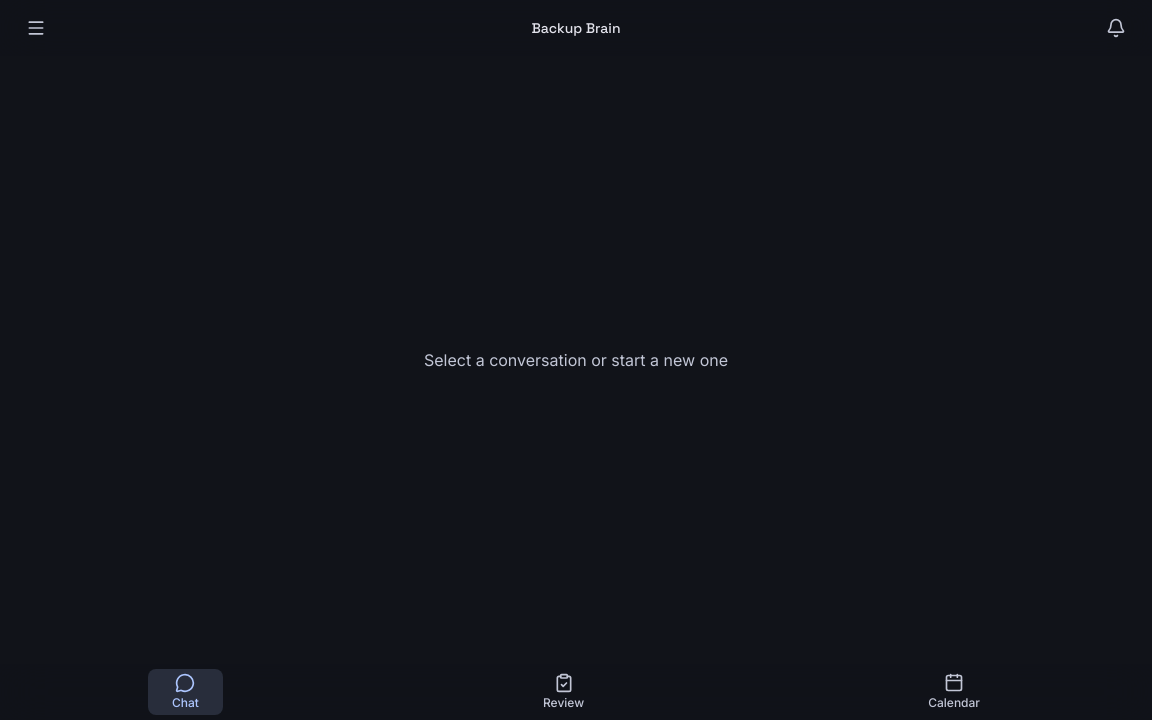
Test: Chat sessions — drawer › switches to a session when clicking on it and closes drawer
Open drawer
Click the button with test id "menu-button" at (36, 28), box [16, 8, 56, 48]
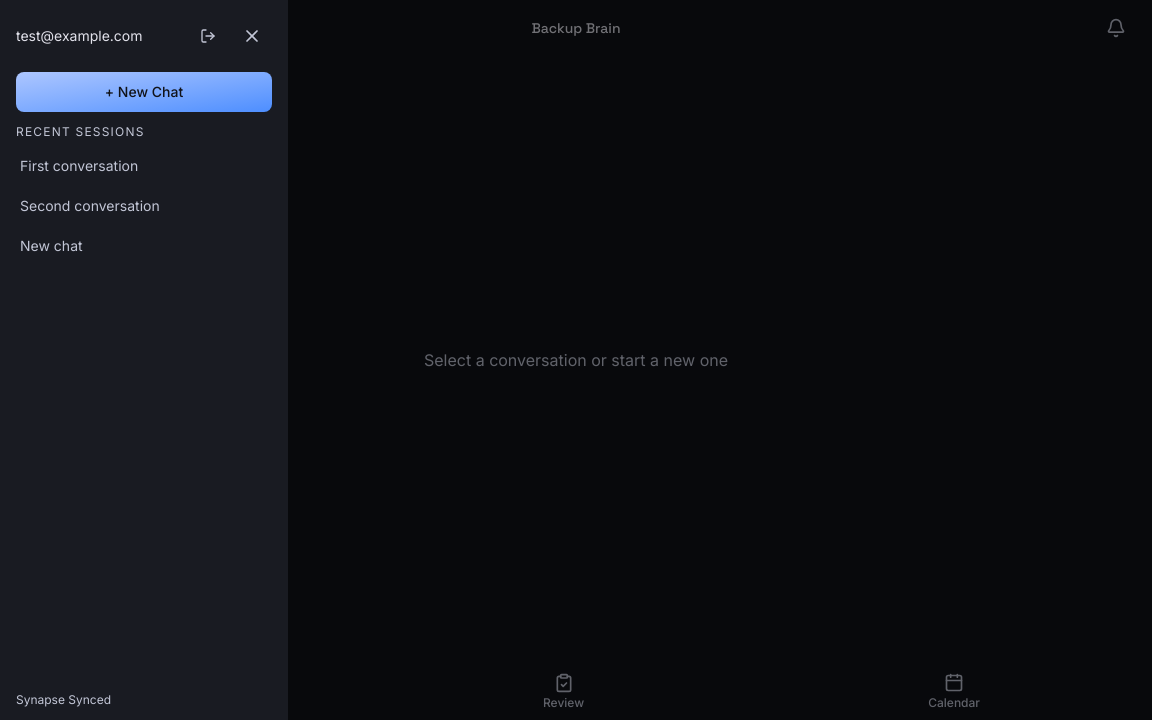
Expected: the button "First conversation" is shown, [8, 148, 280, 184]
Click the button "Second conversation" at (144, 206), box [8, 188, 280, 224]
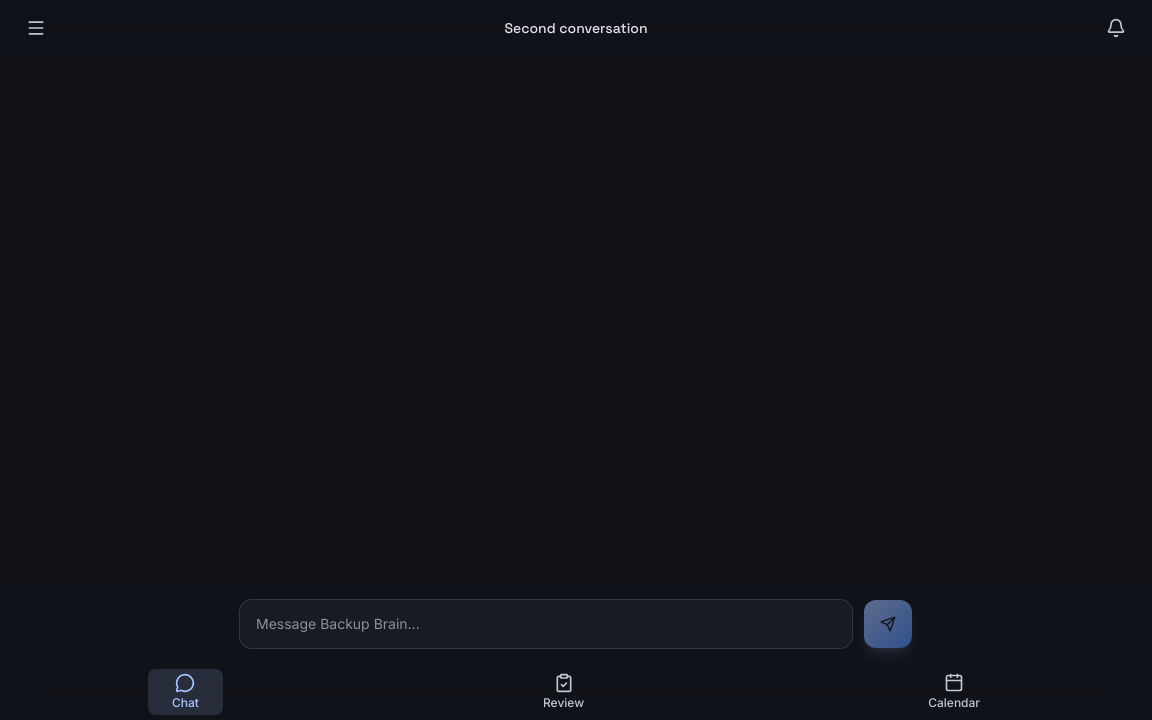
Expected: the heading with test id "session-title" reads "Second conversation", [504, 19, 648, 37]
